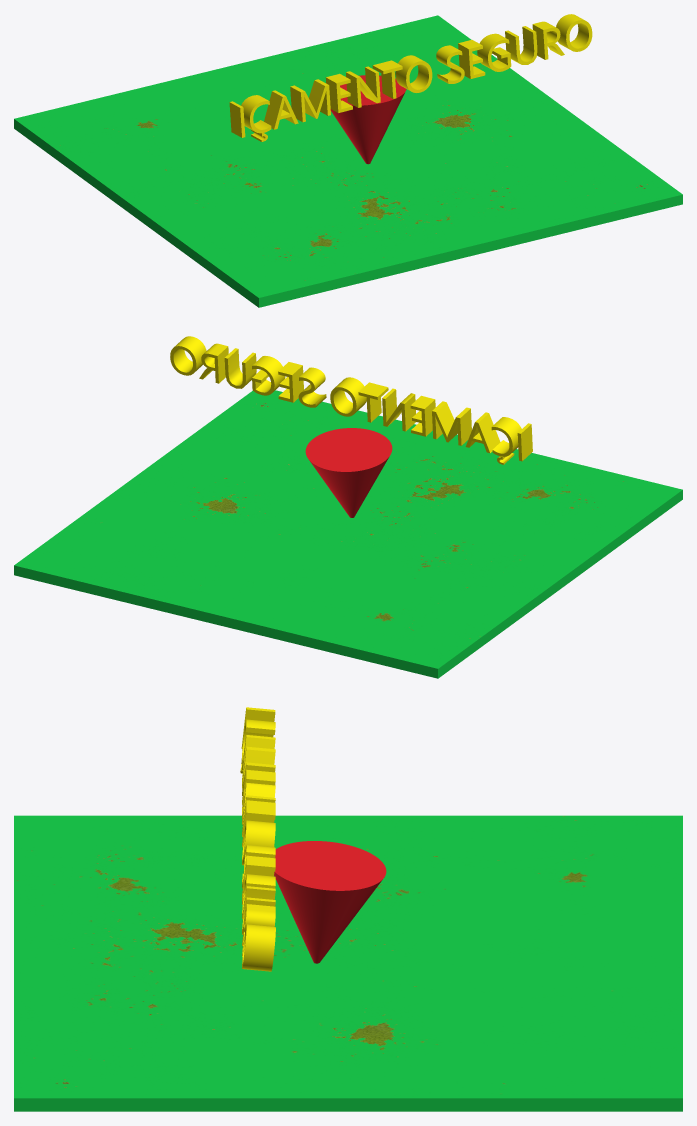
The picture shows the model from 3 angles, top to bottom: view 1: azimuth 30°, elevation 25°; view 2: azimuth 150°, elevation 25°; view 3: azimuth 270°, elevation 25°; orthographic projection. The views are drawn at different scales.
Parts seen in each view (by area): view 1: node_id31, mesh_id48, node_id33, mesh_id37; view 2: node_id31, mesh_id48, node_id33, mesh_id37; view 3: node_id31, node_id33, mesh_id48, mesh_id37.
Part boxes in pixels (x1=…): node_id31: x1=14, y1=15, x2=682, y2=297; mesh_id48: x1=229, y1=14, x2=592, y2=141; node_id33: x1=14, y1=119, x2=682, y2=307; mesh_id37: x1=330, y1=75, x2=406, y2=164; node_id31: x1=14, y1=390, x2=682, y2=668; mesh_id48: x1=170, y1=336, x2=532, y2=464; node_id33: x1=14, y1=490, x2=682, y2=678; mesh_id37: x1=305, y1=428, x2=392, y2=517; node_id31: x1=14, y1=815, x2=682, y2=1098; node_id33: x1=14, y1=1098, x2=682, y2=1111; mesh_id48: x1=240, y1=707, x2=275, y2=971; mesh_id37: x1=274, y1=841, x2=386, y2=963.
Bounding box in the file's own units: 0.512 × 0.1458 × 0.512.
4 materials, 4 textured.
